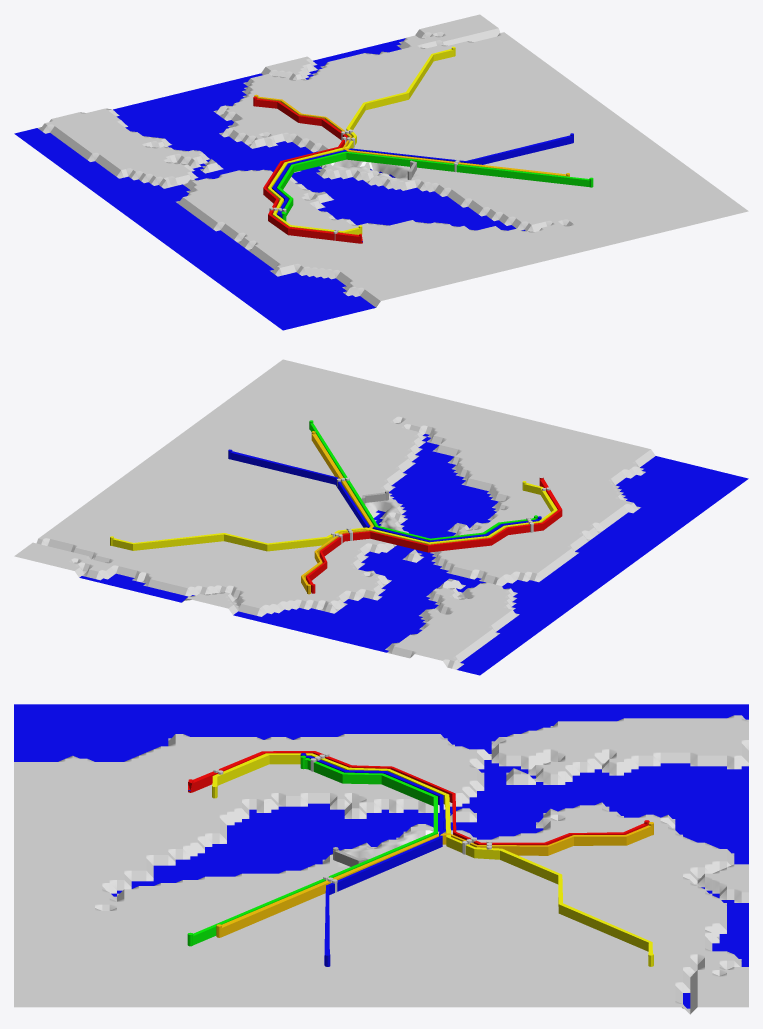
The model's file is map_color.dae.
The picture shows the model from 3 angles, top to bottom: view 1: azimuth 30°, elevation 25°; view 2: azimuth 150°, elevation 25°; view 3: azimuth 270°, elevation 25°; orthographic projection. The views are drawn at different scales.
Parts seen in each view (by area): view 1: land_map_grp_polySurface2_terrain_polySurface1, map_grp_polySurface2_terrain_water_polySurface1, map_grp_non_integer_polySurface2_terrain_polySurface1, map_grp_polySurface2_route_tracks_polySurface1; view 2: land_map_grp_polySurface2_terrain_polySurface1, map_grp_polySurface2_terrain_water_polySurface1, map_grp_non_integer_polySurface2_terrain_polySurface1, map_grp_polySurface2_route_tracks_polySurface1; view 3: land_map_grp_polySurface2_terrain_polySurface1, map_grp_polySurface2_terrain_water_polySurface1, map_grp_non_integer_polySurface2_terrain_polySurface1, map_grp_polySurface2_route_tracks_polySurface1.
Boxes of the visible parts, left/top/right/bottom form: land_map_grp_polySurface2_terrain_polySurface1: left=45, top=14, right=748, bottom=300; map_grp_polySurface2_terrain_water_polySurface1: left=14, top=38, right=525, bottom=330; map_grp_non_integer_polySurface2_terrain_polySurface1: left=38, top=28, right=574, bottom=307; map_grp_polySurface2_route_tracks_polySurface1: left=255, top=49, right=589, bottom=243; land_map_grp_polySurface2_terrain_polySurface1: left=14, top=359, right=650, bottom=660; map_grp_polySurface2_terrain_water_polySurface1: left=79, top=434, right=748, bottom=675; map_grp_non_integer_polySurface2_terrain_polySurface1: left=36, top=416, right=655, bottom=669; map_grp_polySurface2_route_tracks_polySurface1: left=112, top=423, right=562, bottom=591; land_map_grp_polySurface2_terrain_polySurface1: left=14, top=715, right=748, bottom=1007; map_grp_polySurface2_terrain_water_polySurface1: left=14, top=704, right=748, bottom=1008; map_grp_non_integer_polySurface2_terrain_polySurface1: left=58, top=715, right=748, bottom=1014; map_grp_polySurface2_route_tracks_polySurface1: left=188, top=751, right=652, bottom=965.
Bounding box in the file's own units: 12.56 × 12.56 × 0.5333.
